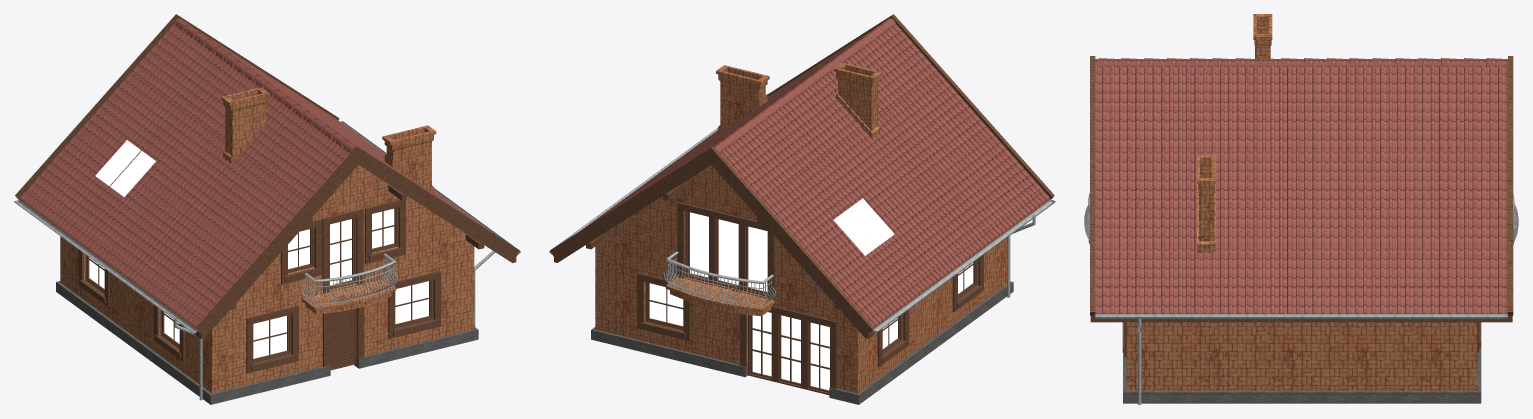
Rendered from house.gltf.
3 views of the same model, side by side, from view 1: azimuth 30°, elevation 25°; view 2: azimuth 150°, elevation 25°; view 3: azimuth 270°, elevation 25° (orthographic). The views are drawn at different scales.
Visible parts, largest first — view 1: roof, walls, boards, windows, cover_window, foundation, chimneys, gutters, barrels, window_roof, balcony, parapets (+1 smaller); view 2: roof, walls, windows, boards, chimneys, cover_window, foundation, gutters, balcony, barrels, window_roof, parapets; view 3: roof, walls, foundation, boards, chimneys, gutters, roof_support.
Part boxes in pixels (bbox=[...]): roof: bbox=[19, 18, 487, 327]; walls: bbox=[60, 165, 474, 393]; boards: bbox=[15, 14, 519, 338]; windows: bbox=[85, 207, 432, 362]; cover_window: bbox=[78, 199, 441, 373]; foundation: bbox=[56, 281, 478, 404]; chimneys: bbox=[221, 87, 436, 193]; gutters: bbox=[14, 121, 520, 400]; barrels: bbox=[301, 253, 397, 306]; window_roof: bbox=[95, 140, 155, 196]; balcony: bbox=[302, 279, 396, 314]; parapets: bbox=[79, 247, 438, 370]; roof: bbox=[582, 18, 1050, 326]; walls: bbox=[595, 165, 1007, 393]; windows: bbox=[645, 211, 976, 394]; boards: bbox=[550, 14, 1054, 338]; chimneys: bbox=[716, 62, 881, 138]; cover_window: bbox=[637, 202, 983, 388]; foundation: bbox=[591, 281, 1013, 404]; gutters: bbox=[549, 128, 1055, 333]; balcony: bbox=[665, 277, 774, 316]; barrels: bbox=[664, 251, 775, 308]; window_roof: bbox=[833, 198, 894, 255]; parapets: bbox=[640, 285, 982, 363]; roof: bbox=[1093, 58, 1507, 313]; walls: bbox=[1126, 322, 1477, 390]; foundation: bbox=[1123, 347, 1481, 403]; boards: bbox=[1090, 56, 1513, 322]; chimneys: bbox=[1197, 14, 1272, 253]; gutters: bbox=[1095, 314, 1507, 404]; roof_support: bbox=[1095, 67, 1507, 315].
Bounding box in the file's own units: 11.91 × 8.38 × 11.77.
Materials: 7 (7 with a texture image).
